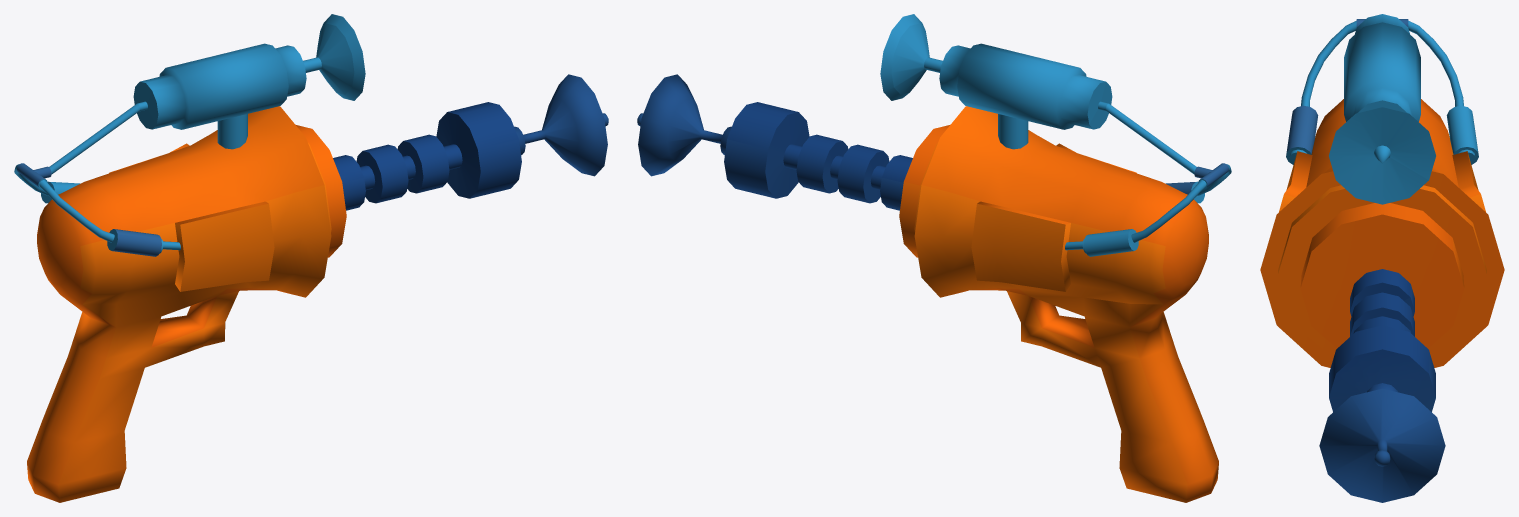
Rendered from LASER BOMB (2).fbx.
3 renders of one model, left to right at view 1: azimuth 30°, elevation 25°; view 2: azimuth 150°, elevation 25°; view 3: azimuth 270°, elevation 25°, orthographic. The views are drawn at different scales.
Parts seen in each view (by area): view 1: Cylinder.001; view 2: Cylinder.001; view 3: Cylinder.001.
Part boxes in pixels (x1=…): Cylinder.001: x1=14, y1=14, x2=608, y2=502; Cylinder.001: x1=637, y1=14, x2=1231, y2=502; Cylinder.001: x1=1260, y1=14, x2=1504, y2=502.
Bounding box in the file's own units: 84.9 × 56.1 × 25.87.
1 material, 1 textured.
